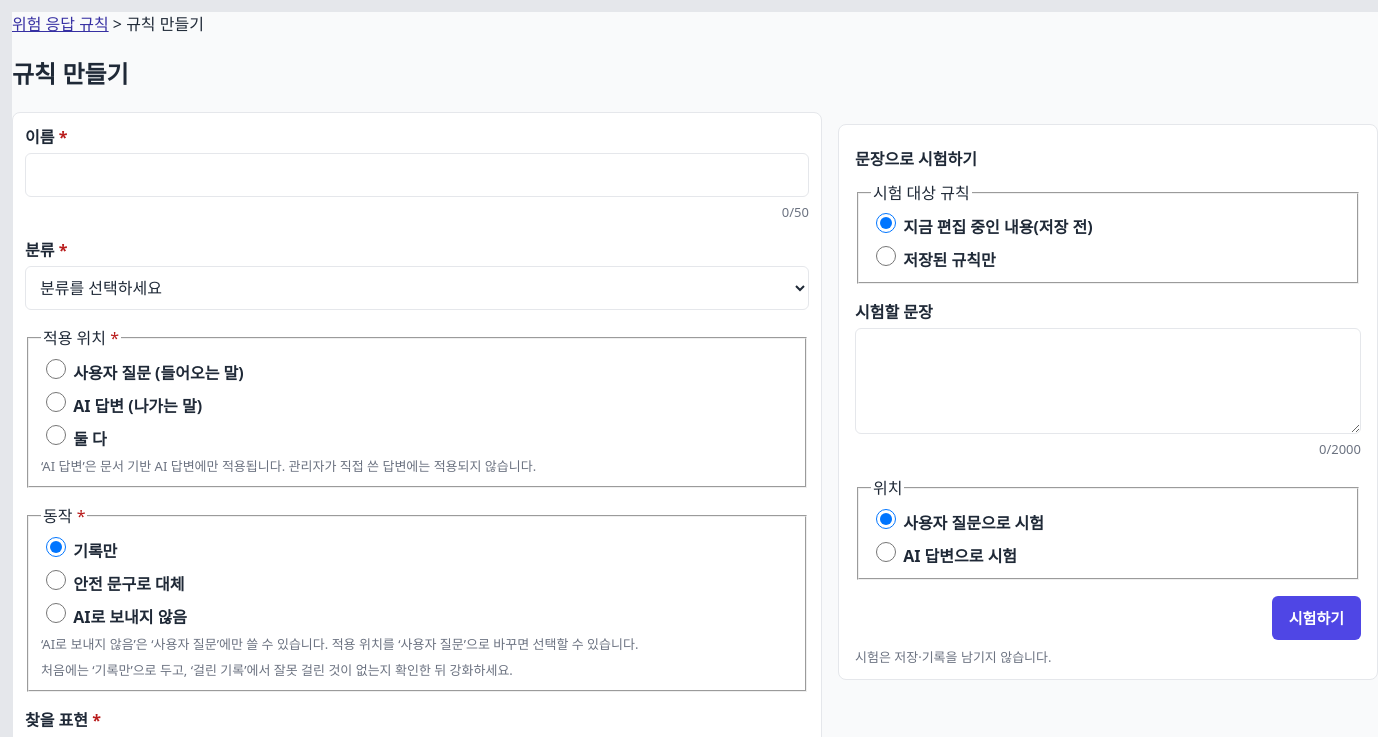
Scenario: GR-2 규칙 만들기 › "AI로 보내지 않음"을 고른 뒤 적용 위치를 바꾸면 "기록만"으로 되돌리고 알린다
Click the radio button labelled "사용자 질문 (들어오는 말)": (56, 369) [46, 359, 66, 379]
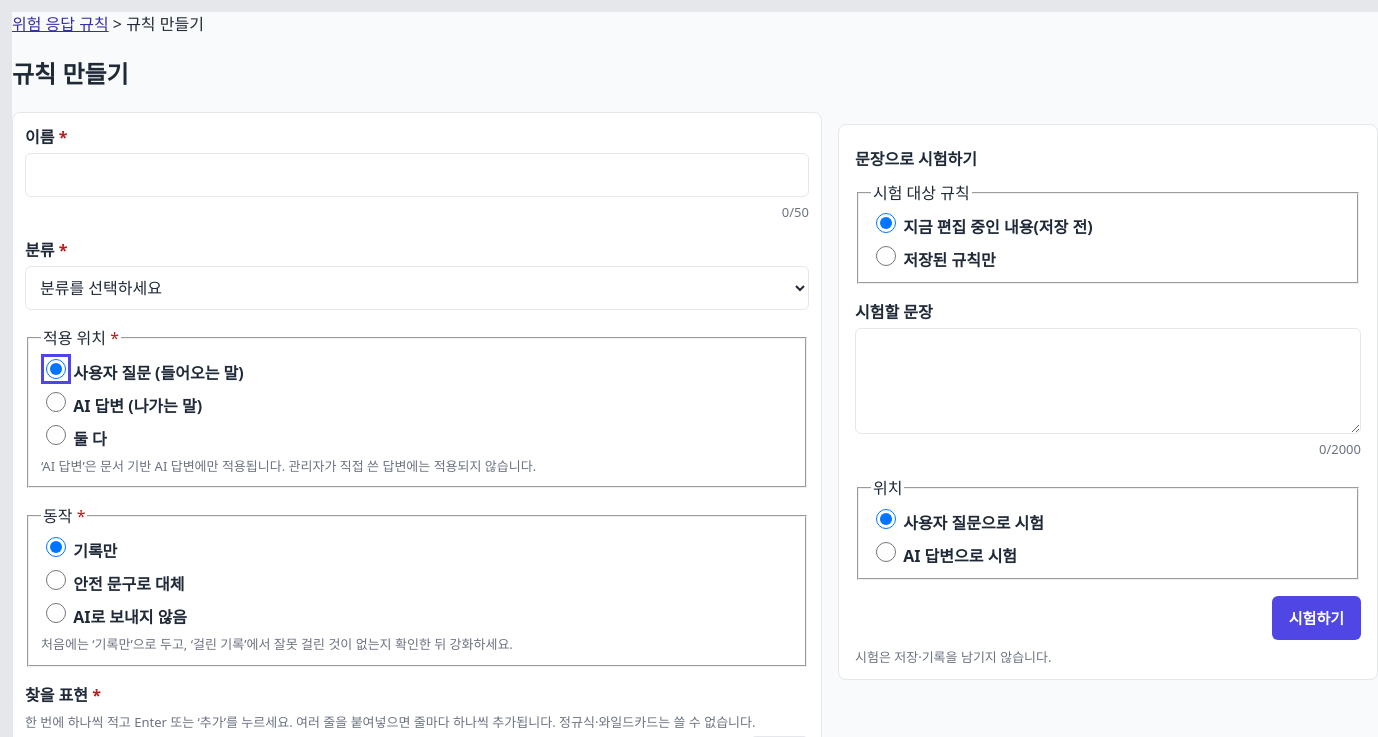
Click the radio button labelled "AI로 보내지 않음": (56, 613) [46, 603, 66, 623]
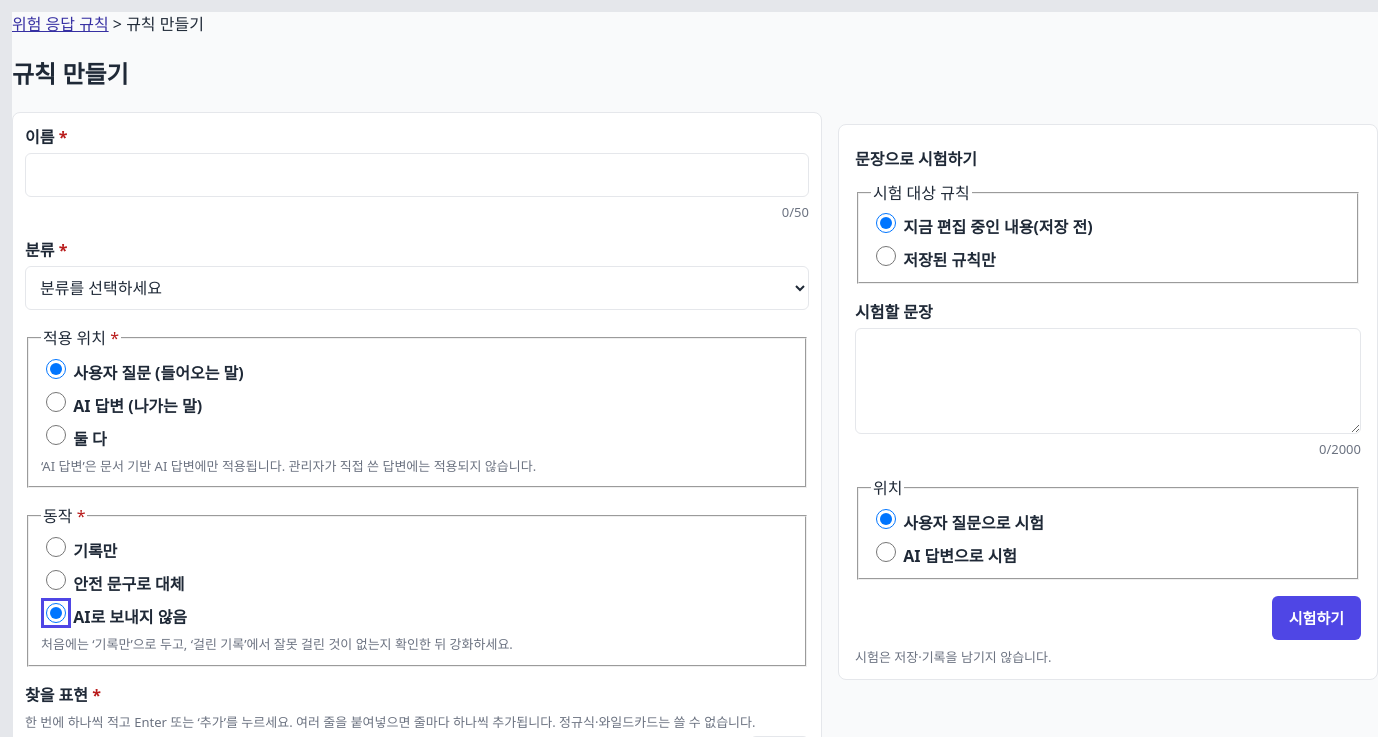
Click the radio button labelled "AI 답변 (나가는 말)": (56, 402) [46, 392, 66, 412]
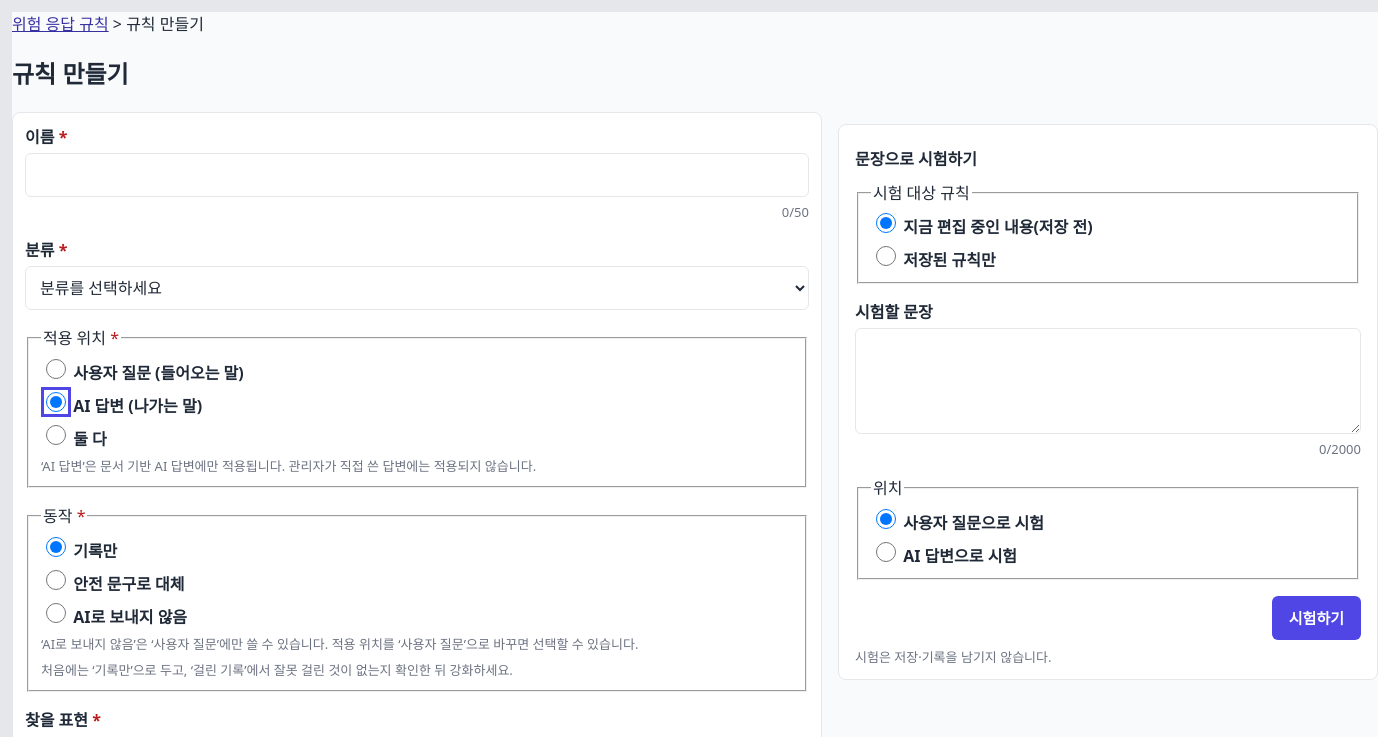
Expected: the radio button labelled "기록만" is checked, [46, 537, 66, 557]
